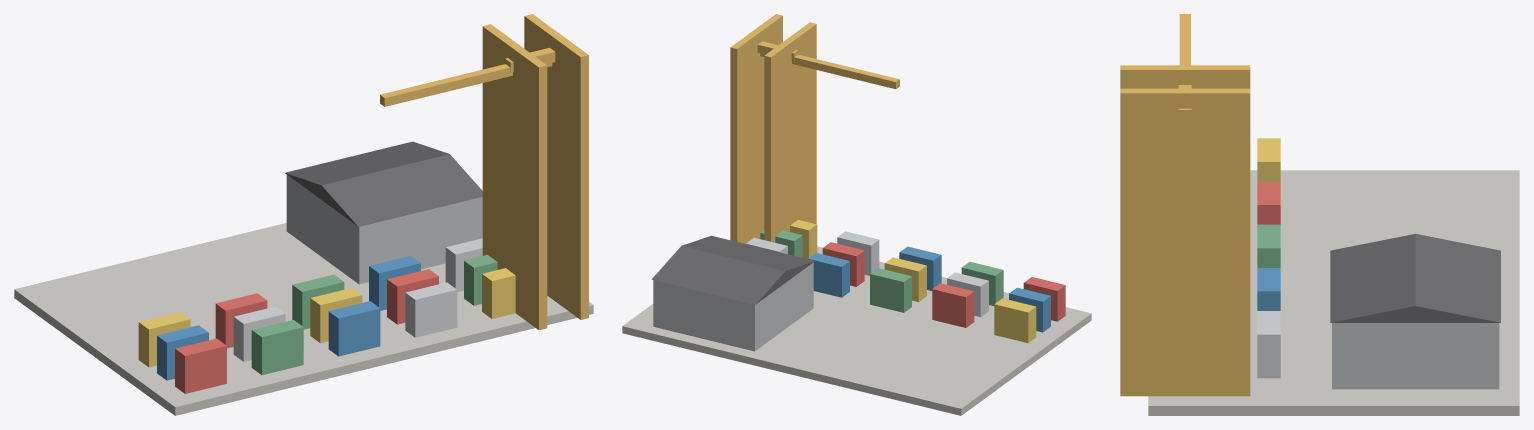
The model's file is port.glb.
The picture shows the model from 3 angles, left to right: view 1: azimuth 30°, elevation 25°; view 2: azimuth 150°, elevation 25°; view 3: azimuth 270°, elevation 25°; orthographic projection. The views are drawn at different scales.
Parts seen in each view (by area): view 1: Cube, Cube.032, Cube.031, m, Cube.019, Cube.007, Cube.013, Cube.001, Cube.035, Cube.025, Cube.005, Cube.009 (+8 smaller); view 2: Cube, Cube.032, Cube.031, m, Cube.005, Cube.011, Cube.017, Cube.023, Cube.035, Cube.001, Cube.015, Cube.021 (+7 smaller); view 3: Cube.032, Cube, m, Cube.031, Cube.029, Cube.005, Cube.011, Cube.017, Cube.023, Cube.035.
Boxes of the visible parts, left/top/right/bottom form: Cube: left=14, top=223, right=593, bottom=415; Cube.032: left=482, top=14, right=588, bottom=329; Cube.031: left=286, top=175, right=482, bottom=284; m: left=285, top=141, right=482, bottom=226; Cube.019: left=405, top=282, right=457, bottom=337; Cube.007: left=251, top=320, right=303, bottom=374; Cube.013: left=328, top=301, right=380, bottom=356; Cube.001: left=175, top=338, right=226, bottom=393; Cube.035: left=380, top=63, right=552, bottom=106; Cube.025: left=482, top=268, right=515, bottom=318; Cube.005: left=138, top=312, right=190, bottom=367; Cube.009: left=233, top=306, right=285, bottom=361; Cube: left=622, top=246, right=1091, bottom=415; Cube.032: left=730, top=14, right=816, bottom=243; Cube.031: left=653, top=262, right=813, bottom=351; m: left=651, top=235, right=814, bottom=304; Cube.005: left=994, top=298, right=1036, bottom=342; Cube.011: left=932, top=283, right=974, bottom=327; Cube.017: left=870, top=268, right=911, bottom=312; Cube.023: left=808, top=253, right=849, bottom=297; Cube.035: left=760, top=53, right=899, bottom=89; Cube.001: left=1023, top=277, right=1065, bottom=321; Cube.015: left=884, top=257, right=926, bottom=301; Cube.021: left=822, top=242, right=864, bottom=286; Cube.032: left=1120, top=65, right=1250, bottom=396; Cube: left=1148, top=170, right=1519, bottom=415; m: left=1330, top=233, right=1500, bottom=322; Cube.031: left=1332, top=323, right=1499, bottom=389; Cube.029: left=1257, top=311, right=1280, bottom=378; Cube.005: left=1257, top=138, right=1280, bottom=181; Cube.011: left=1257, top=181, right=1280, bottom=224; Cube.017: left=1257, top=224, right=1280, bottom=267; Cube.023: left=1257, top=268, right=1280, bottom=310; Cube.035: left=1179, top=14, right=1190, bottom=65.
Bounding box in the file's own units: 60 × 37.2 × 43.
